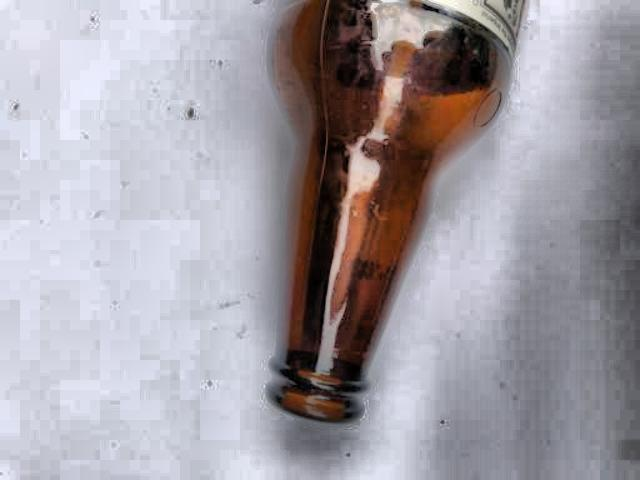Bottles: (246, 0, 540, 444)
